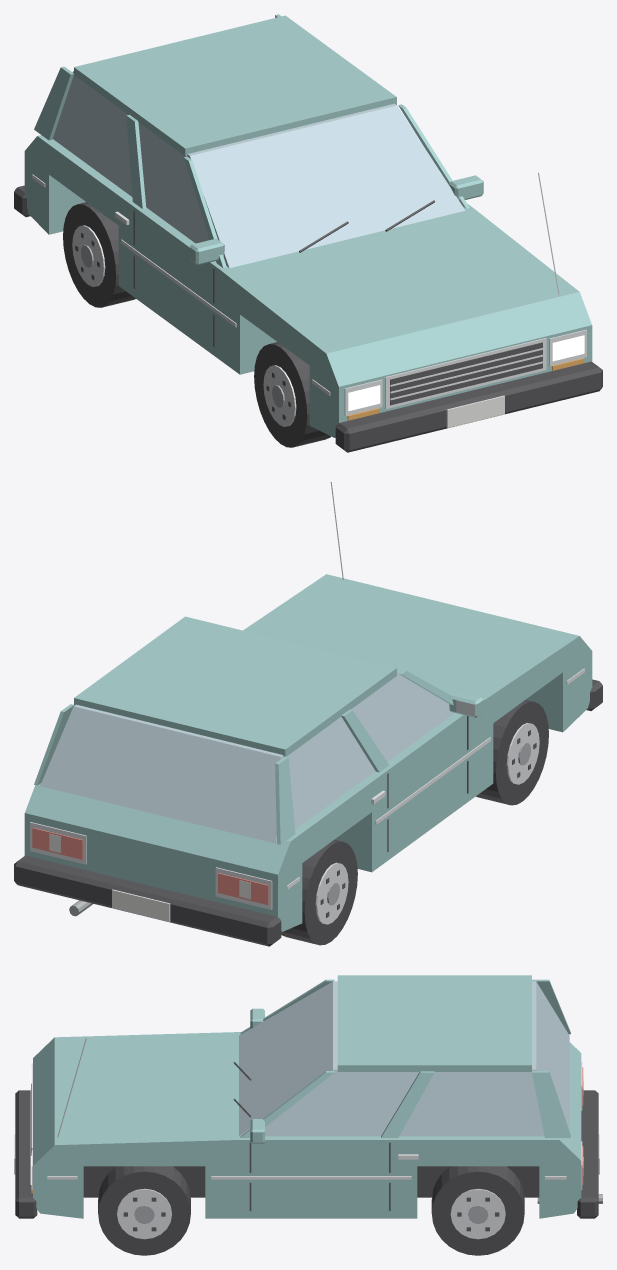
The model's file is car_hatch_t.glb.
3 renders of one model, top to bottom at view 1: azimuth 30°, elevation 25°; view 2: azimuth 150°, elevation 25°; view 3: azimuth 270°, elevation 25°, orthographic. The views are drawn at different scales.
Parts seen in each view (by area): view 1: car_hatch_t_car_t, car_hatch_t_glass, car_hatch_t_rubber, car_hatch_t_chrome, car_hatch_t_dark, car_hatch_t_lamp_glass, car_hatch_t_paint_w; view 2: car_hatch_t_car_t, car_hatch_t_glass, car_hatch_t_rubber, car_hatch_t_chrome, car_hatch_t_neon_r, car_hatch_t_paint_w, car_hatch_t_steel; view 3: car_hatch_t_car_t, car_hatch_t_glass, car_hatch_t_rubber, car_hatch_t_chrome, car_hatch_t_dark, car_hatch_t_steel.
Boxes of the visible parts, x1=… form: car_hatch_t_car_t: x1=24, y1=14, x2=592, y2=437; car_hatch_t_glass: x1=53, y1=71, x2=465, y2=268; car_hatch_t_rubber: x1=14, y1=185, x2=602, y2=452; car_hatch_t_chrome: x1=32, y1=172, x2=586, y2=426; car_hatch_t_dark: x1=75, y1=200, x2=542, y2=420; car_hatch_t_lamp_glass: x1=348, y1=335, x2=584, y2=410; car_hatch_t_paint_w: x1=446, y1=395, x2=504, y2=427; car_hatch_t_car_t: x1=24, y1=574, x2=592, y2=931; car_hatch_t_glass: x1=40, y1=672, x2=454, y2=843; car_hatch_t_rubber: x1=14, y1=679, x2=602, y2=946; car_hatch_t_chrome: x1=30, y1=481, x2=584, y2=924; car_hatch_t_neon_r: x1=32, y1=828, x2=268, y2=904; car_hatch_t_paint_w: x1=49, y1=833, x2=250, y2=921; car_hatch_t_steel: x1=69, y1=742, x2=530, y2=916; car_hatch_t_car_t: x1=33, y1=975, x2=581, y2=1218; car_hatch_t_glass: x1=239, y1=981, x2=569, y2=1136; car_hatch_t_rubber: x1=15, y1=1090, x2=598, y2=1255; car_hatch_t_chrome: x1=30, y1=1038, x2=582, y2=1239; car_hatch_t_dark: x1=31, y1=1062, x2=499, y2=1231; car_hatch_t_steel: x1=134, y1=1194, x2=602, y2=1223.
Size of the model in its own units: 2 by 1.6 by 4.06.
